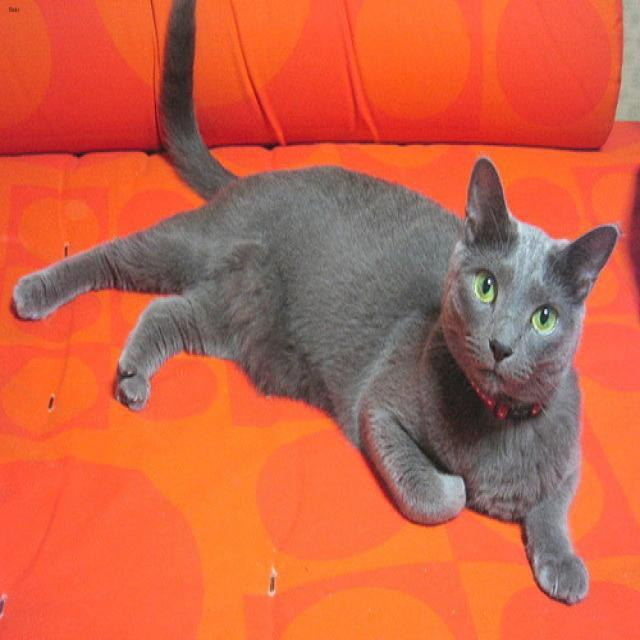Russian_Blue: (435, 149, 619, 418)
